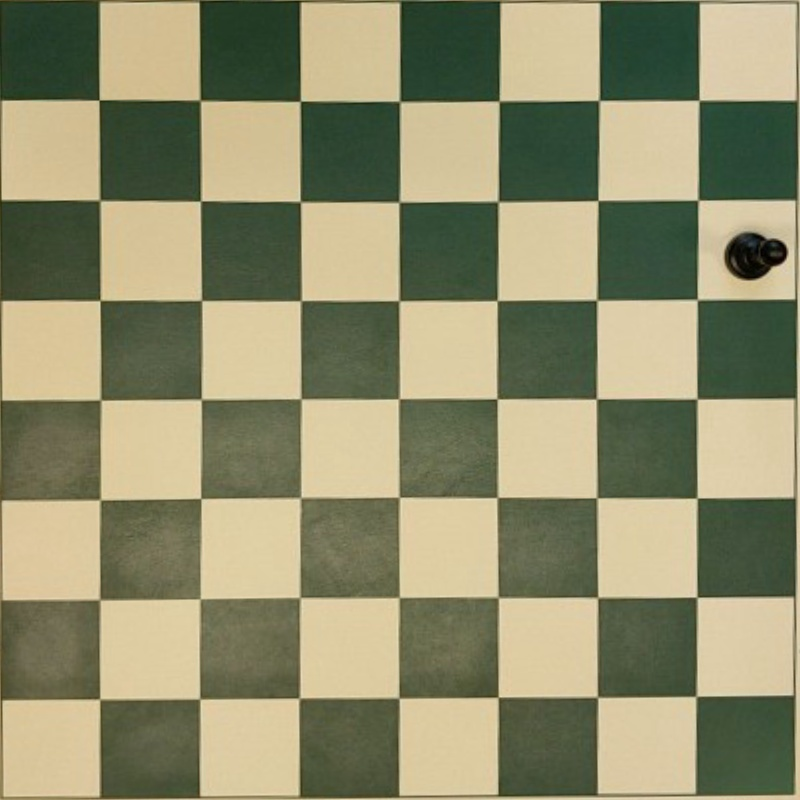black-pawn: (725, 231, 788, 280)
